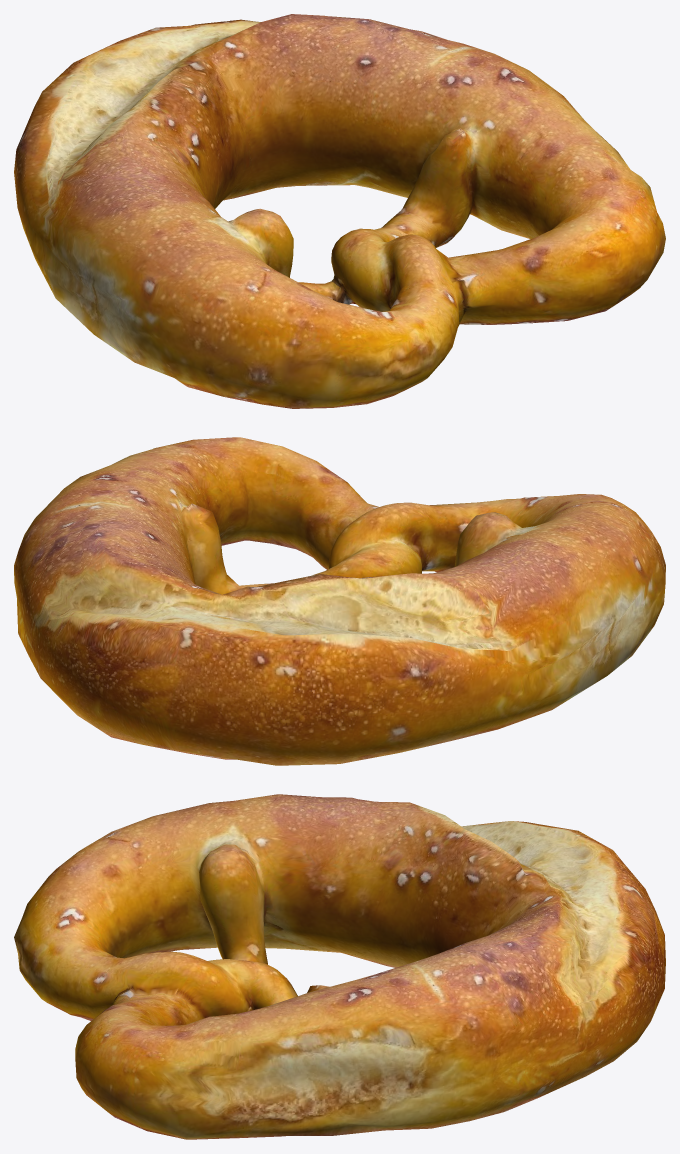
Rendered from pretzel.glb.
3 renders of one model, top to bottom at view 1: azimuth 30°, elevation 25°; view 2: azimuth 150°, elevation 25°; view 3: azimuth 270°, elevation 25°, orthographic.
Parts seen in each view (by area): view 1: Object_2; view 2: Object_2; view 3: Object_2.
Part boxes in pixels (box(x1,y1,x2,y2)): Object_2: box(14, 14, 665, 408); Object_2: box(14, 437, 665, 765); Object_2: box(14, 794, 665, 1139).
Size of the model in its own units: 0.1212 by 0.0347 by 0.1333.
1 material, 1 textured.
